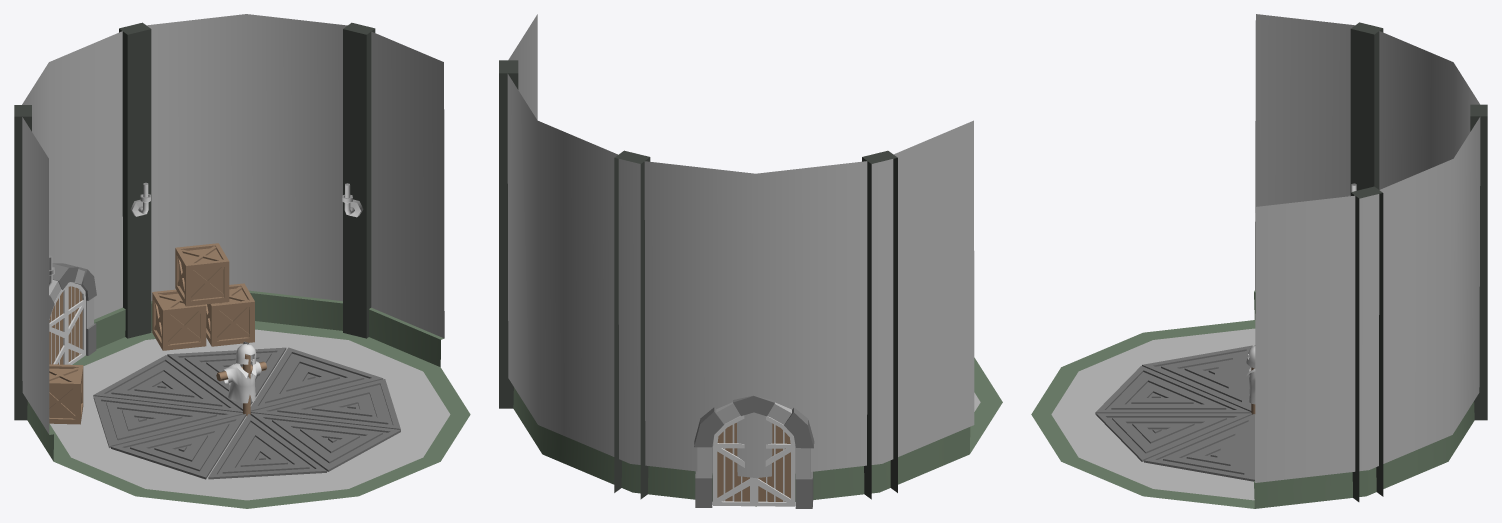
File: Dest_Tutorial.FBX
3 views of the same model, side by side, from view 1: azimuth 30°, elevation 25°; view 2: azimuth 150°, elevation 25°; view 3: azimuth 270°, elevation 25° (orthographic). The views are drawn at different scales.
Visible parts, largest first — view 1: Cylinder001; view 2: Cylinder001; view 3: Cylinder001.
Part boxes in pixels (bbox=[...]): Cylinder001: bbox=[14, 14, 470, 508]; Cylinder001: bbox=[499, 14, 1002, 508]; Cylinder001: bbox=[1031, 14, 1487, 508].
Size of the model in its own units: 102 by 75 by 102.
1 material, 1 textured.
